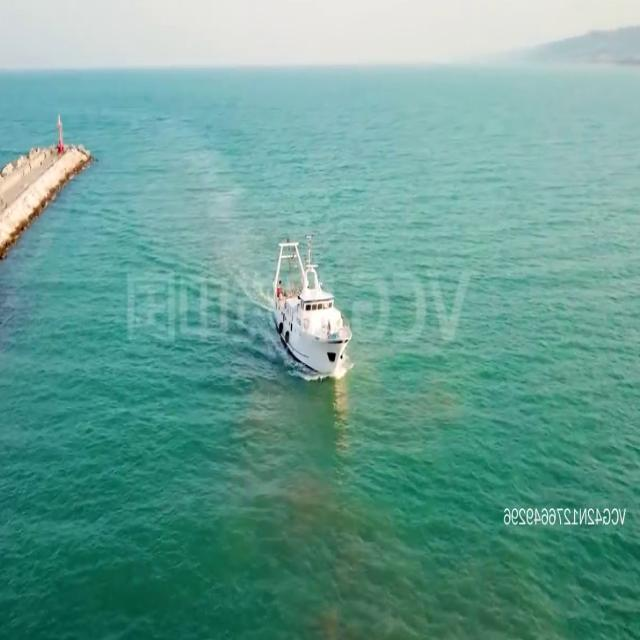houseboat: (268, 232, 353, 374)
